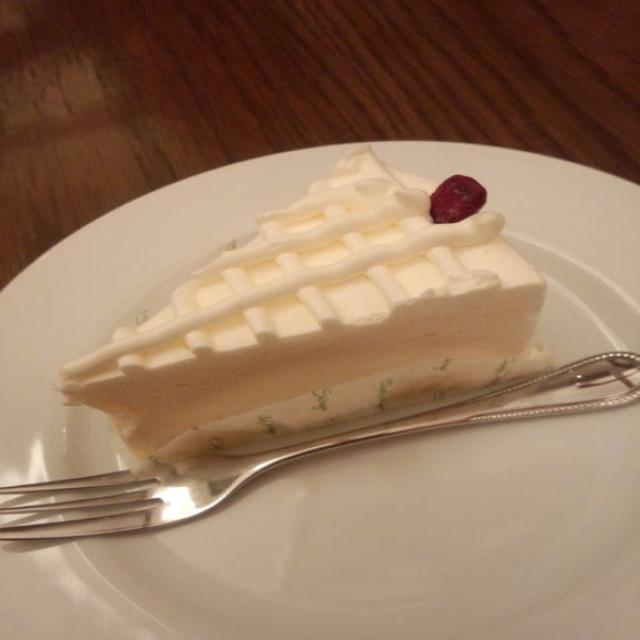鸡蛋料理: (0, 84, 640, 640)
